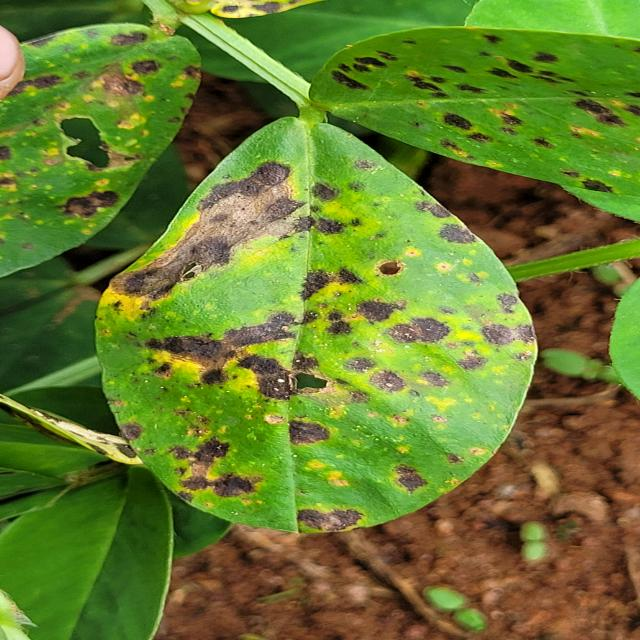Ground nut_tikka leaf spot: (91, 116, 537, 534)
